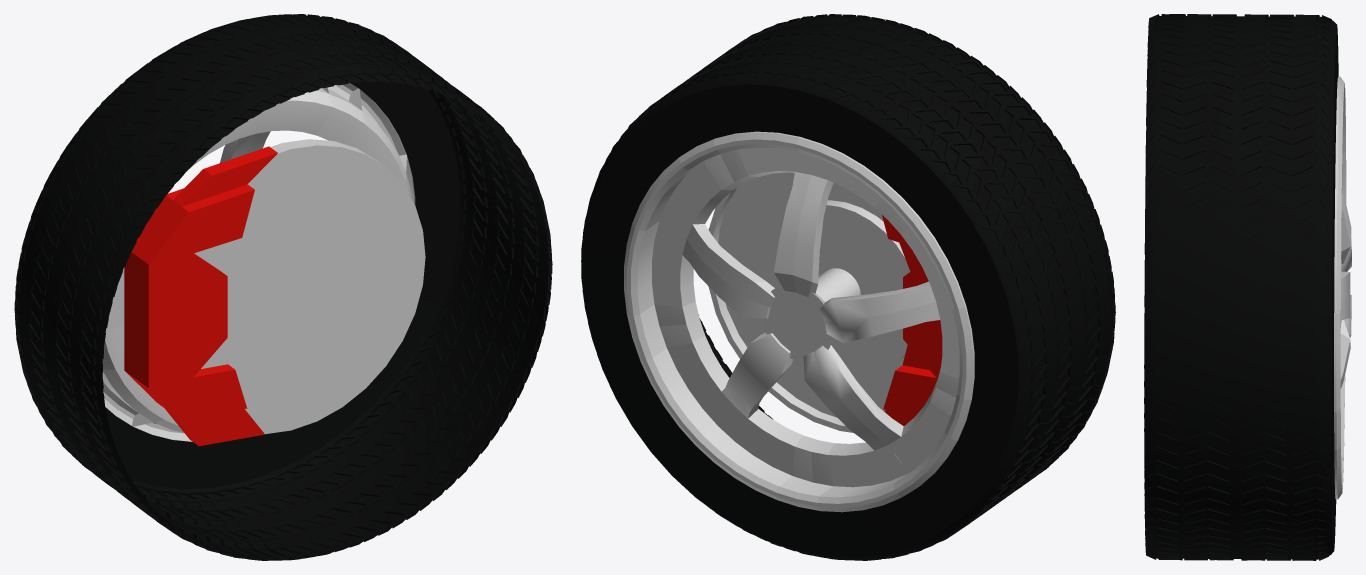
The model's file is Rim_L.fbx.
The picture shows the model from 3 angles, left to right: view 1: azimuth 30°, elevation 25°; view 2: azimuth 150°, elevation 25°; view 3: azimuth 270°, elevation 25°; orthographic projection. The views are drawn at different scales.
Parts seen in each view (by area): view 1: Roda.001, Circle.001; view 2: Roda.001, Circle.001; view 3: Roda.001.
Boxes of the visible parts, box(x1,y1,x2,y2) form: Roda.001: box(14, 14, 552, 560); Circle.001: box(124, 139, 425, 446); Roda.001: box(581, 14, 1115, 560); Circle.001: box(708, 172, 942, 432); Roda.001: box(1144, 14, 1351, 560).
Size of the model in its own units: 54.03 by 53.83 by 20.47.
